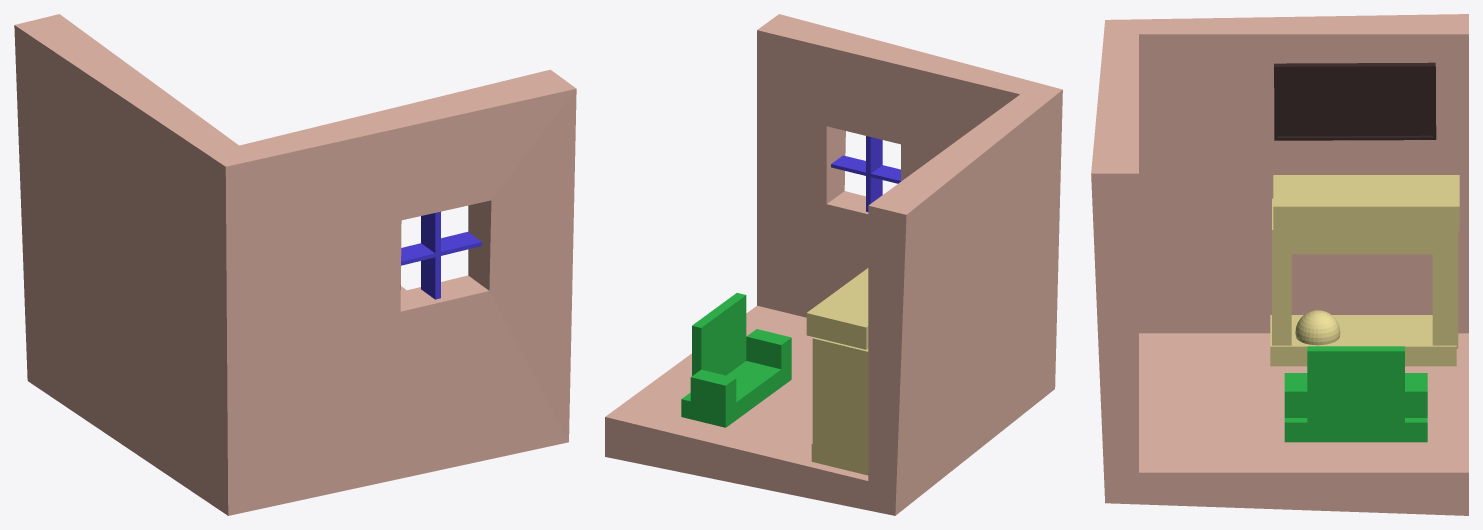
3 renders of one model, left to right at view 1: azimuth 30°, elevation 25°; view 2: azimuth 150°, elevation 25°; view 3: azimuth 270°, elevation 25°, orthographic. The views are drawn at different scales.
Parts seen in each view (by area): view 1: Cube, Куб.002; view 2: Cube, Куб, Куб.005, Куб.004, Куб.002, Куб.003; view 3: Cube, Куб, Куб.001, Куб.004, Куб.005, Куб.003.
Boxes of the visible parts, bbox=[...] form: Cube: bbox=[14, 14, 576, 515]; Куб.002: bbox=[401, 211, 481, 299]; Cube: bbox=[605, 14, 1062, 515]; Куб: bbox=[681, 293, 791, 427]; Куб.005: bbox=[812, 337, 868, 461]; Куб.004: bbox=[806, 268, 868, 349]; Куб.002: bbox=[831, 136, 900, 211]; Куб.003: bbox=[811, 443, 868, 475]; Cube: bbox=[1091, 14, 1468, 515]; Куб: bbox=[1284, 346, 1427, 442]; Куб.001: bbox=[1274, 62, 1436, 140]; Куб.004: bbox=[1273, 175, 1459, 230]; Куб.005: bbox=[1272, 198, 1458, 348]; Куб.003: bbox=[1270, 315, 1456, 366].
Bounding box in the file's own units: 3.29 × 3.29 × 3.29.
